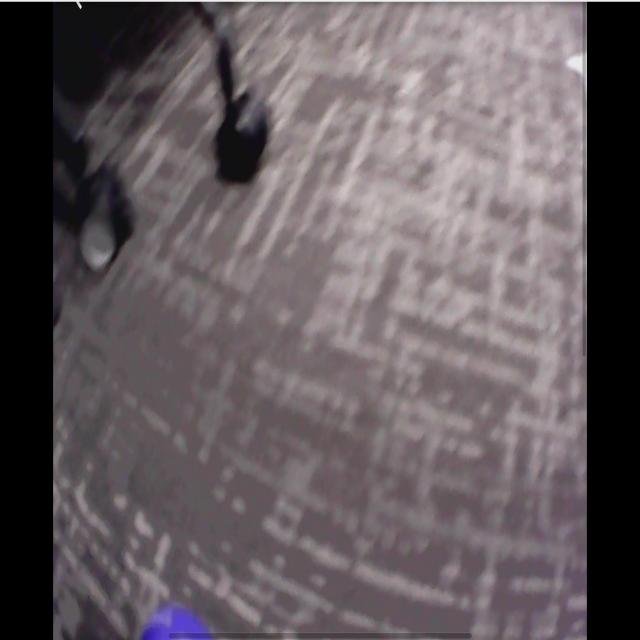ball: (142, 613, 212, 640)
